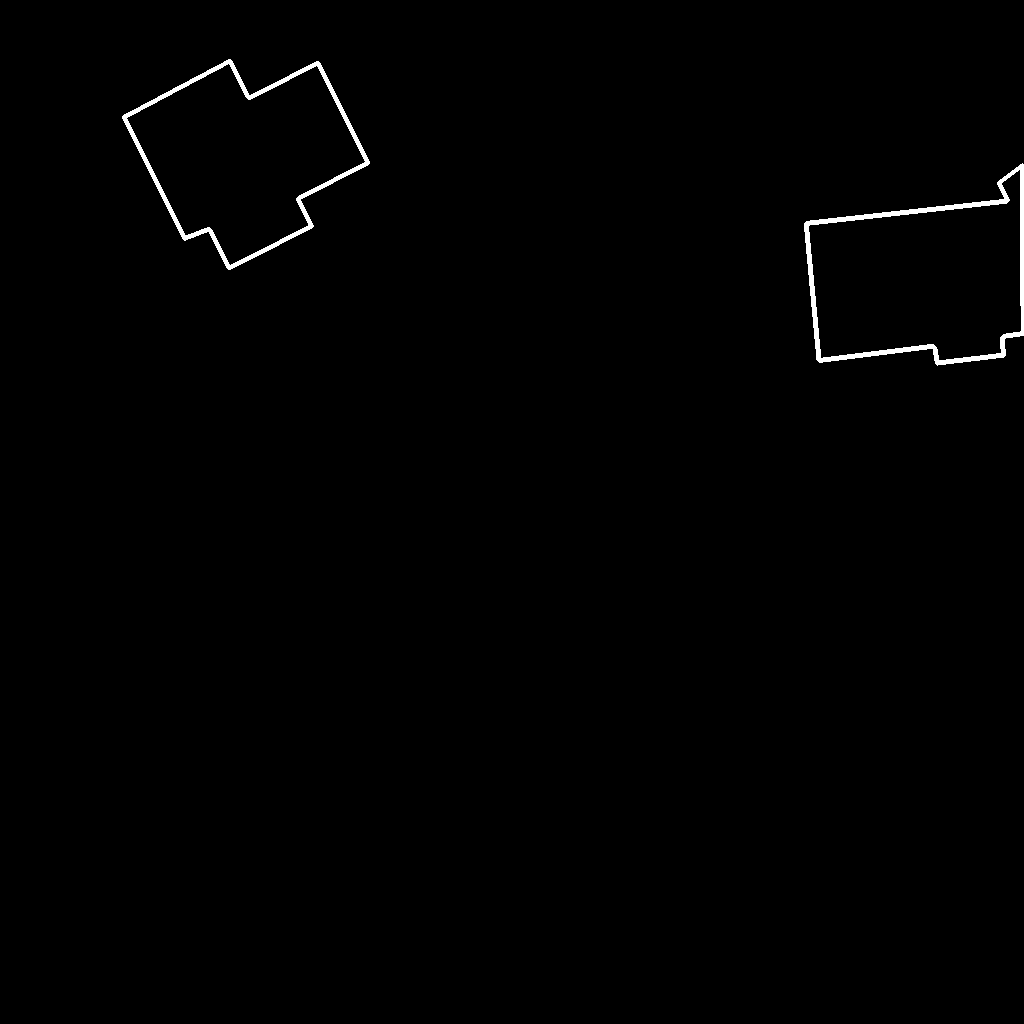building: (124, 61, 369, 269), (806, 165, 1024, 364)
